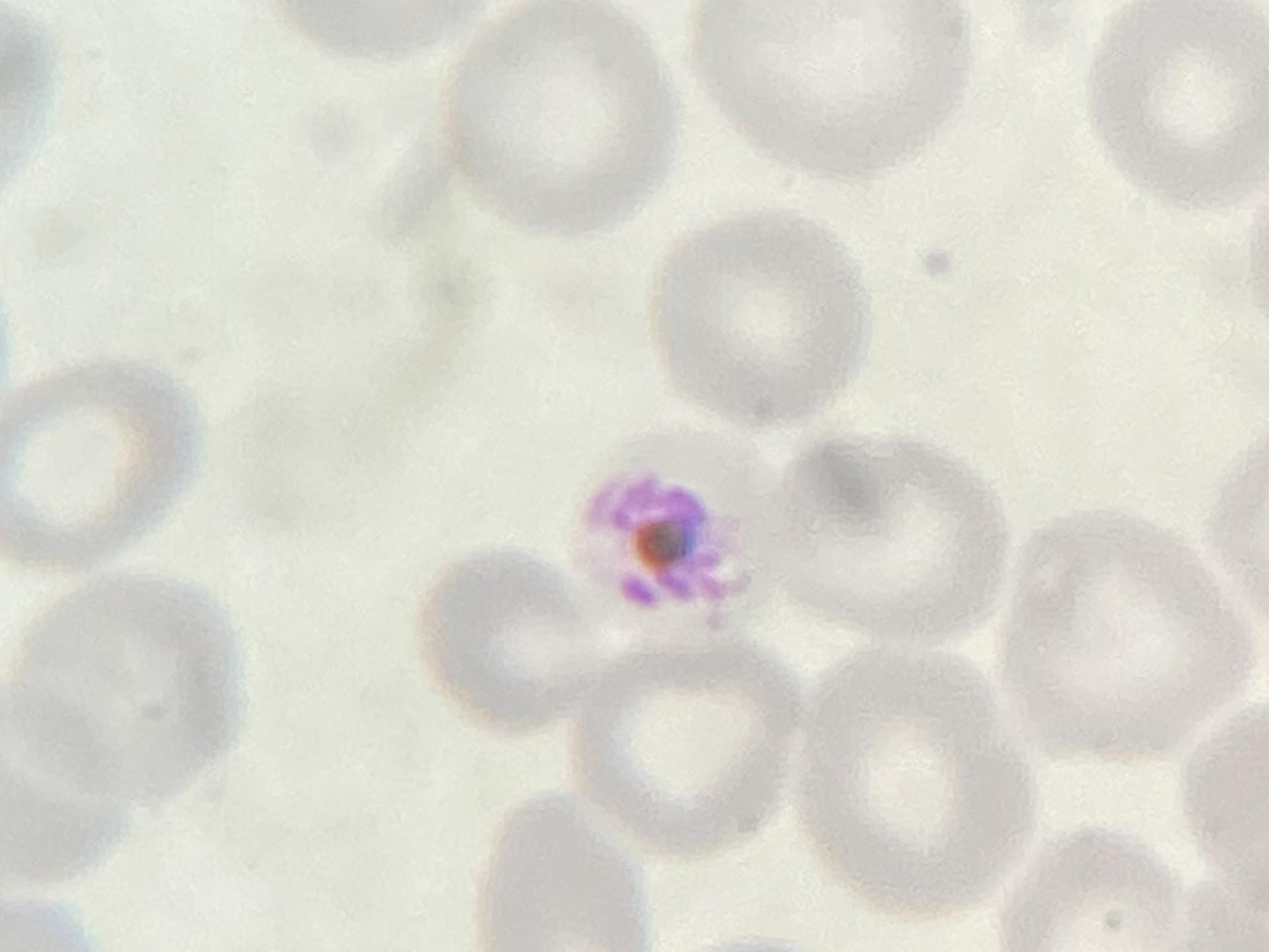Infected: (498, 314, 695, 531)
Uninfected: (236, 29, 485, 318), (18, 184, 273, 445), (590, 719, 834, 952), (1031, 142, 1262, 365), (471, 98, 696, 326), (258, 305, 499, 515), (300, 774, 579, 952), (397, 525, 617, 740), (1064, 382, 1269, 589), (0, 735, 189, 952), (679, 208, 850, 396), (617, 0, 781, 152)
